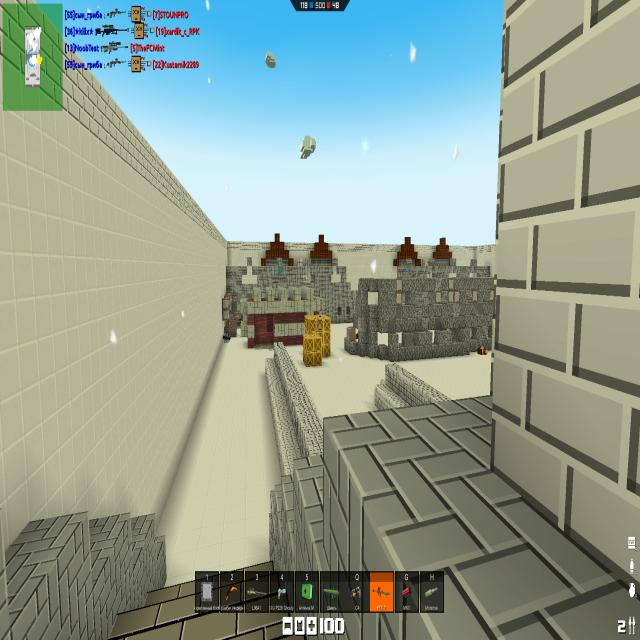player: (477, 346, 487, 356), (224, 333, 230, 343), (224, 319, 230, 327), (238, 319, 243, 327)
